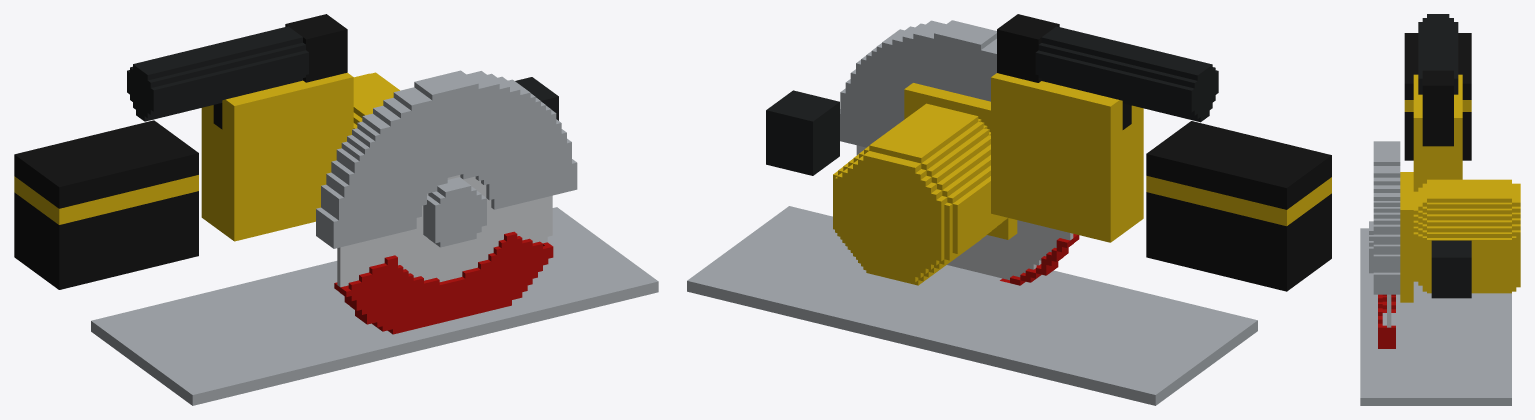
The model's file is circsaw_off.glb.
3 renders of one model, left to right at view 1: azimuth 30°, elevation 25°; view 2: azimuth 150°, elevation 25°; view 3: azimuth 270°, elevation 25°, orthographic. The views are drawn at different scales.
Visible parts, largest first — view 1: circsaw_off:compound; view 2: circsaw_off:compound; view 3: circsaw_off:compound.
Boxes of the visible parts, x1,y1,x2,y2 form: circsaw_off:compound: [14, 14, 658, 405]; circsaw_off:compound: [687, 14, 1331, 405]; circsaw_off:compound: [1360, 14, 1520, 405].
Bounding box in the file's own units: 0.44 × 0.224 × 0.144.
